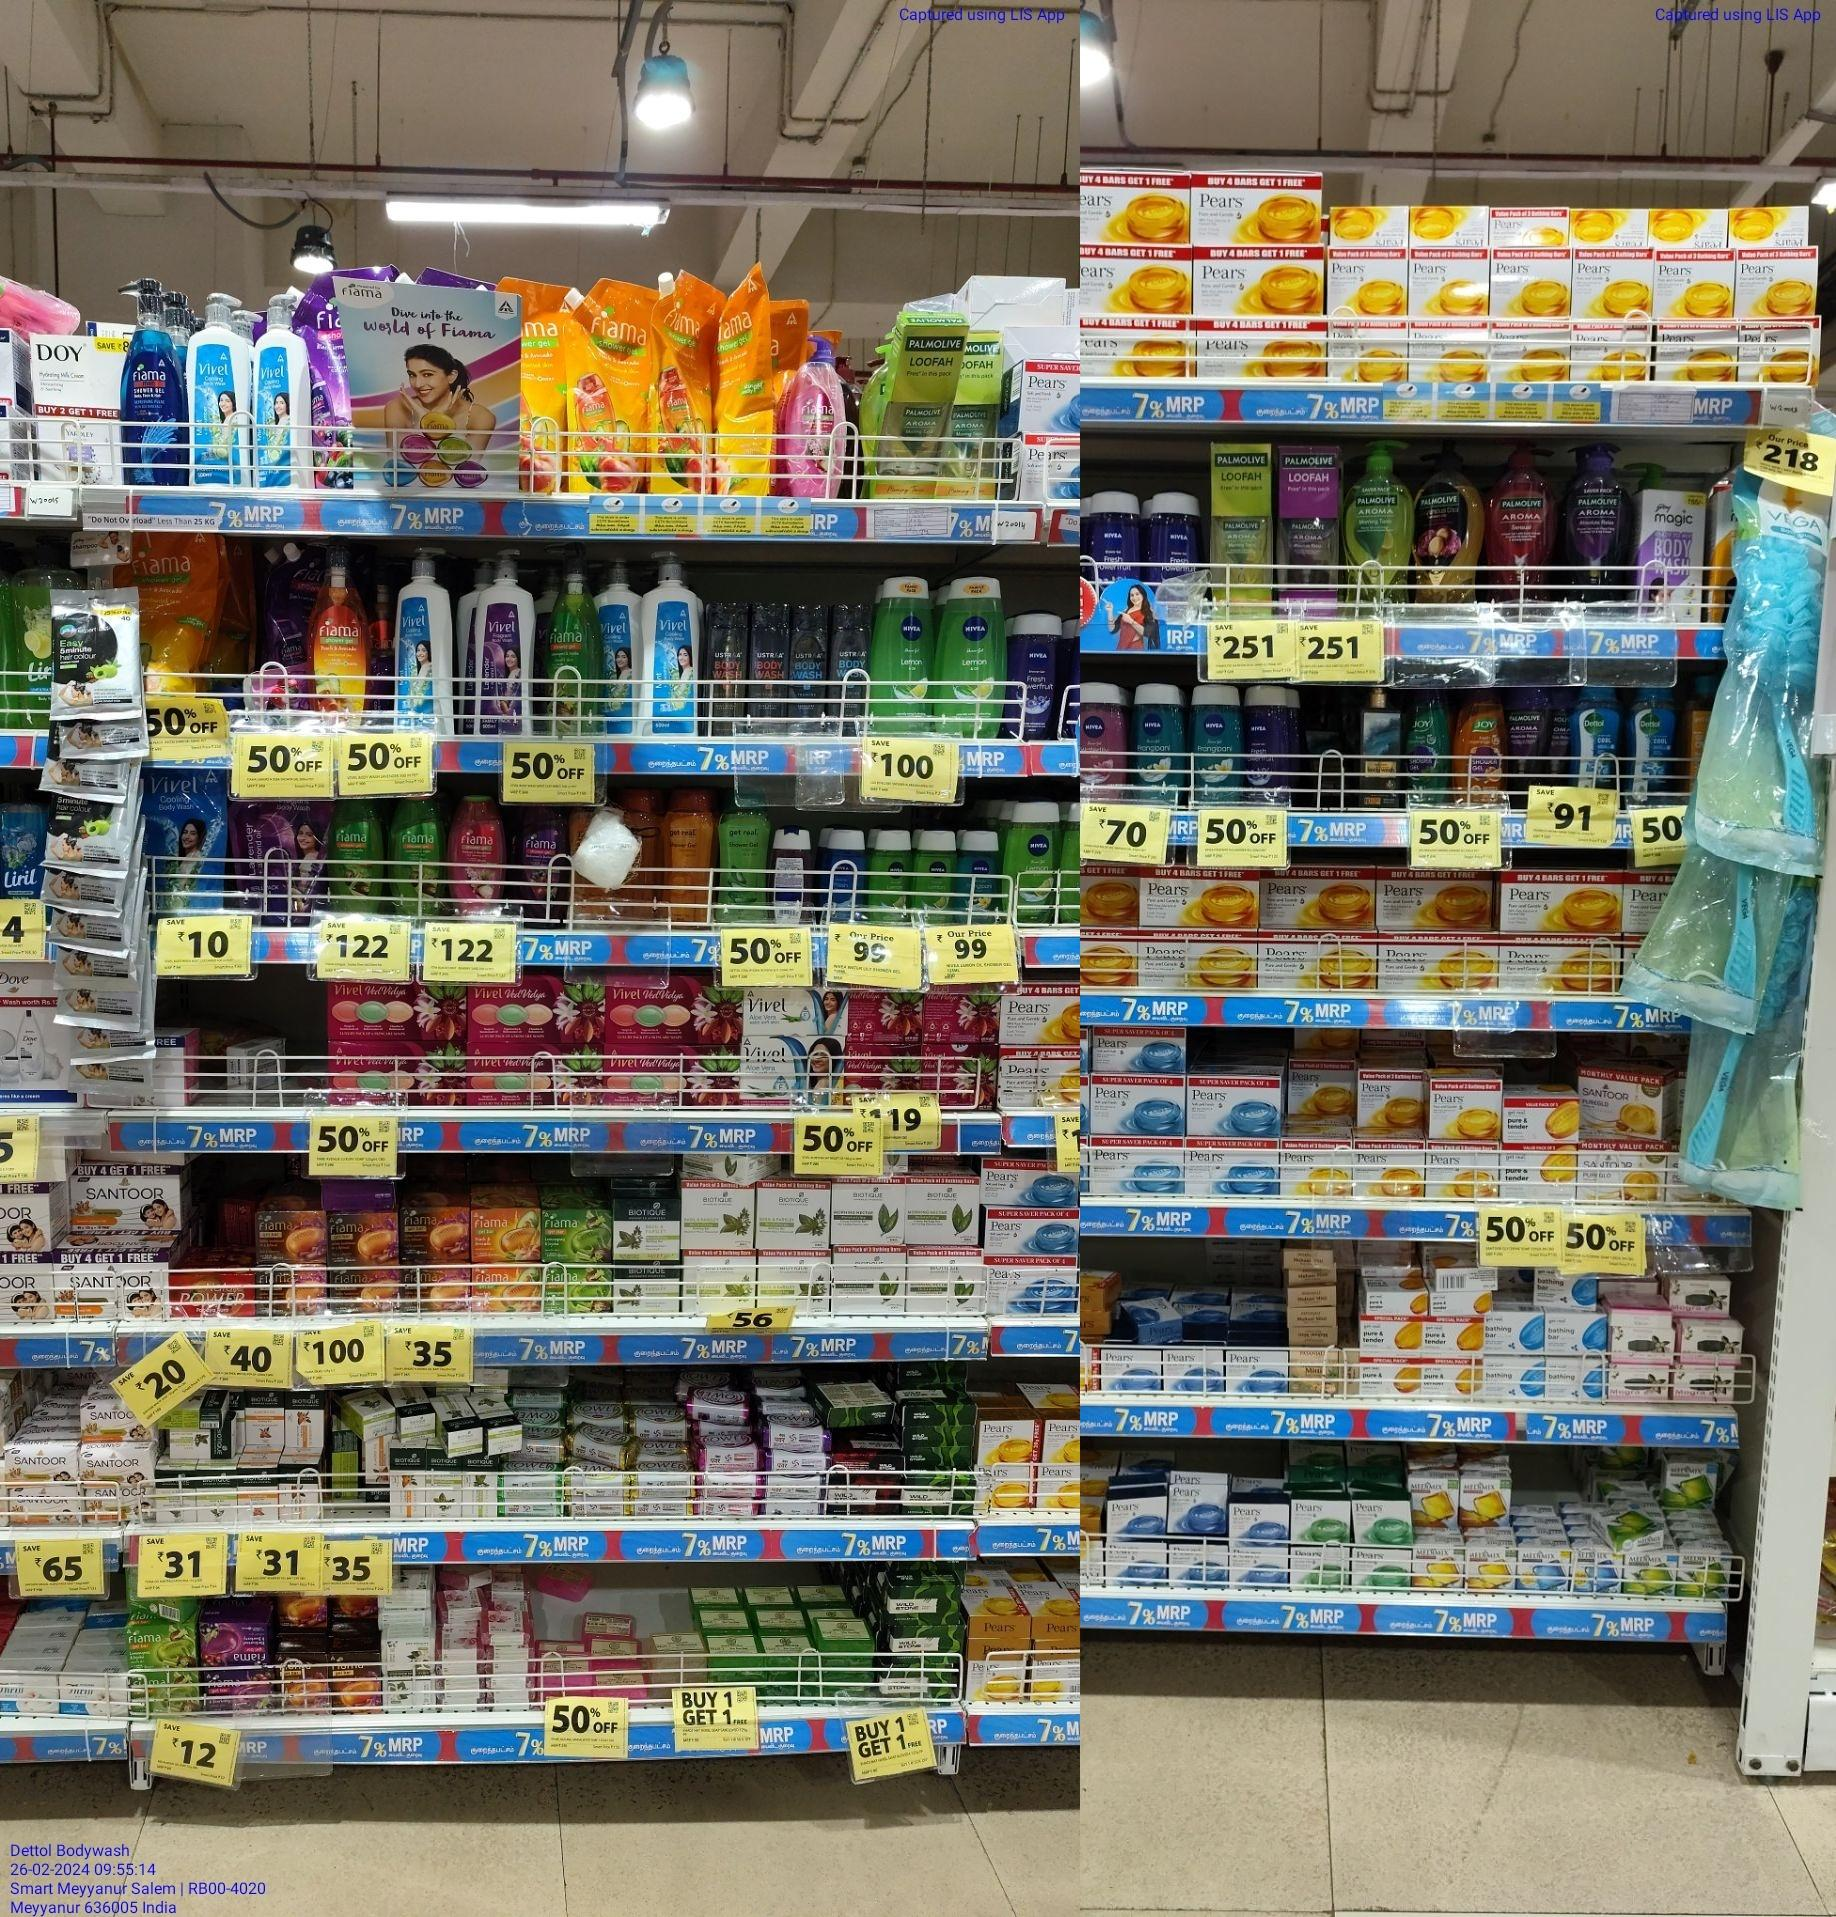Fiama_Shower_Gel_Lemongrass_and_Jojoba_250ML: (385, 796, 445, 912), (327, 796, 382, 912)
Fiama_Shower_Gel_Patchouli_and_Macadamia_250ML: (448, 792, 503, 916)
Nivea_Shower_Gel_Lemon_and_Oil_250ML: (931, 575, 1008, 738), (868, 575, 933, 733)
